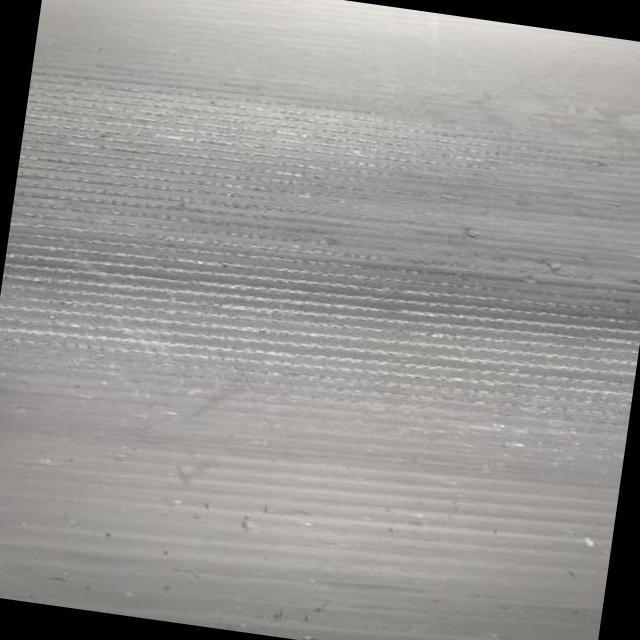Wear: (0, 50, 640, 478)
